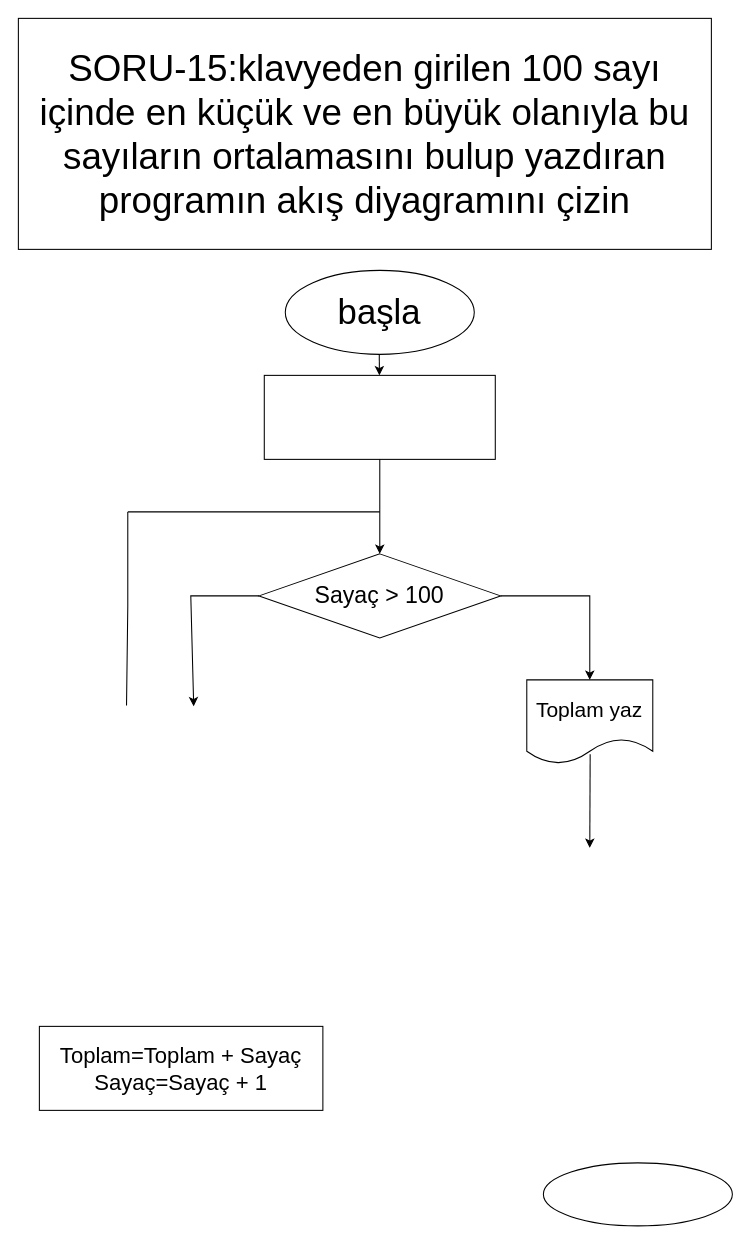
Image size: 751x1244. Some labels were removed from this diagram. The shapes that lost their labels are listed below. From the top down, each one's centre as x and y in pixels, then its label:
point (379, 416): Toplam=0 sayaç=1
point (637, 1194): Bitir
